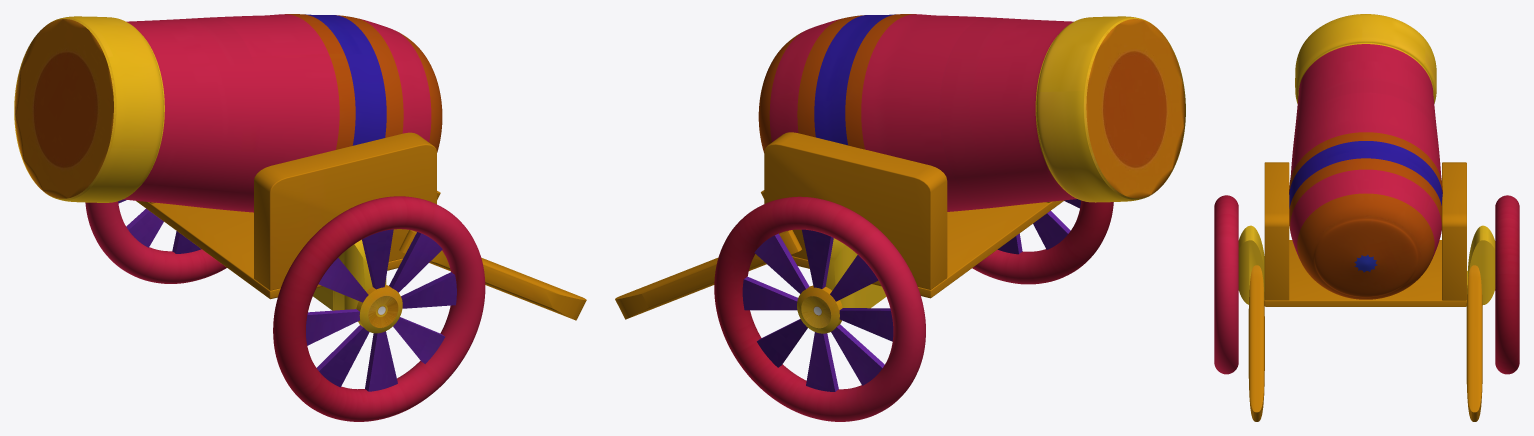
The model's file is CarnivalCannon.fbx.
3 renders of one model, left to right at view 1: azimuth 30°, elevation 25°; view 2: azimuth 150°, elevation 25°; view 3: azimuth 270°, elevation 25°, orthographic. The views are drawn at different scales.
Parts seen in each view (by area): view 1: Vert, Gear.001, Cube, Gear.002, Cube.002, Cube.001; view 2: Vert, Gear.002, Cube, Gear.001, Cube.003, Cube.001; view 3: Vert, Cube, Gear.002, Gear.001, Cube.001, Cube.003, Cube.002.
Part boxes in pixels (x1,y1,x2,y2): Vert: (14,14,442,212); Gear.001: (273,196,485,421); Cube: (136,132,436,299); Gear.002: (85,199,226,283); Cube.002: (399,230,586,320); Cube.001: (313,239,386,310); Vert: (758,14,1185,211); Gear.002: (714,196,925,421); Cube: (764,132,1064,298); Gear.001: (972,199,1113,284); Cube.003: (615,230,801,319); Cube.001: (825,238,886,308); Vert: (1289,14,1442,299); Cube: (1264,162,1466,306); Gear.002: (1495,195,1519,374); Gear.001: (1214,195,1238,374); Cube.001: (1238,225,1495,304); Cube.003: (1466,265,1482,421); Cube.002: (1248,265,1264,421).
Bounding box in the file's own units: 5.62 × 4.29 × 4.26.
Materials: 9 (9 with a texture image).
